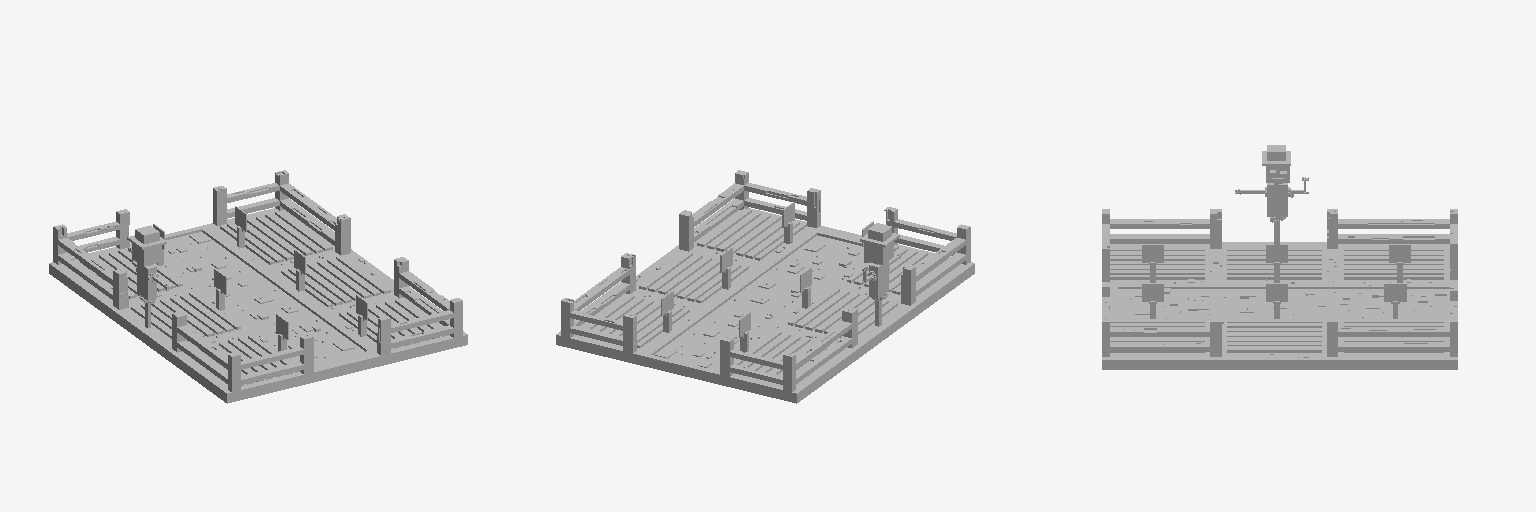
File: garden.obj
The picture shows the model from 3 angles: view 1: azimuth 30°, elevation 25°; view 2: azimuth 150°, elevation 25°; view 3: azimuth 270°, elevation 25°; orthographic projection.
Parts seen in each view (by area): view 1: object 1; view 2: object 1; view 3: object 1.
Boxes of the visible parts, box(x1,y1,x2,y2) form: object 1: box(49, 170, 467, 403); object 1: box(556, 170, 974, 403); object 1: box(1102, 145, 1457, 369).
Size of the model in its own units: 20.4 by 8.5 by 25.6.